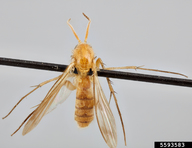Fruit fly: (46, 11, 129, 134)
